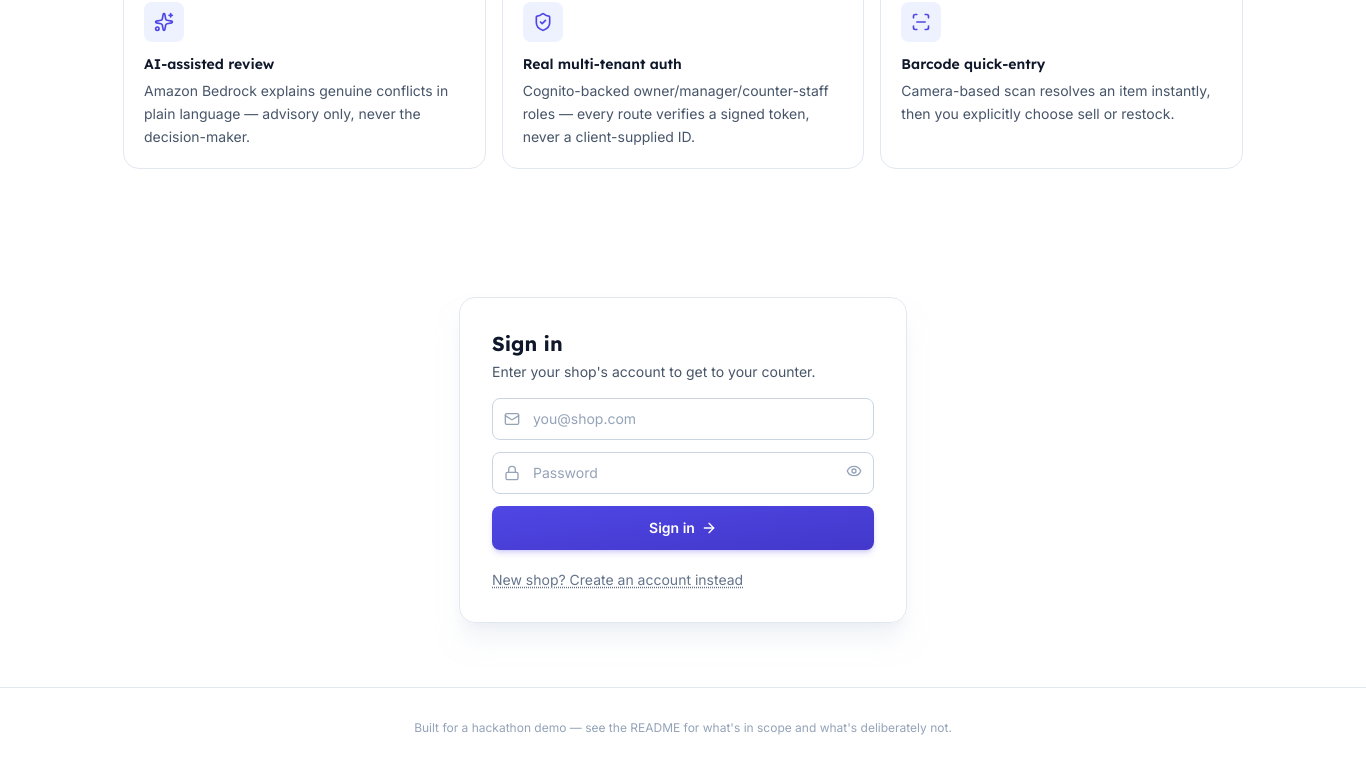
Test case: HeroPage › toggling to sign-up shows the shop-name field, and back again returns to sign-in
This screenshot has width=1366, height=768.
(page scrolled)
Click the button "New shop? Create an account instead": (618, 580) [492,570,743,590]
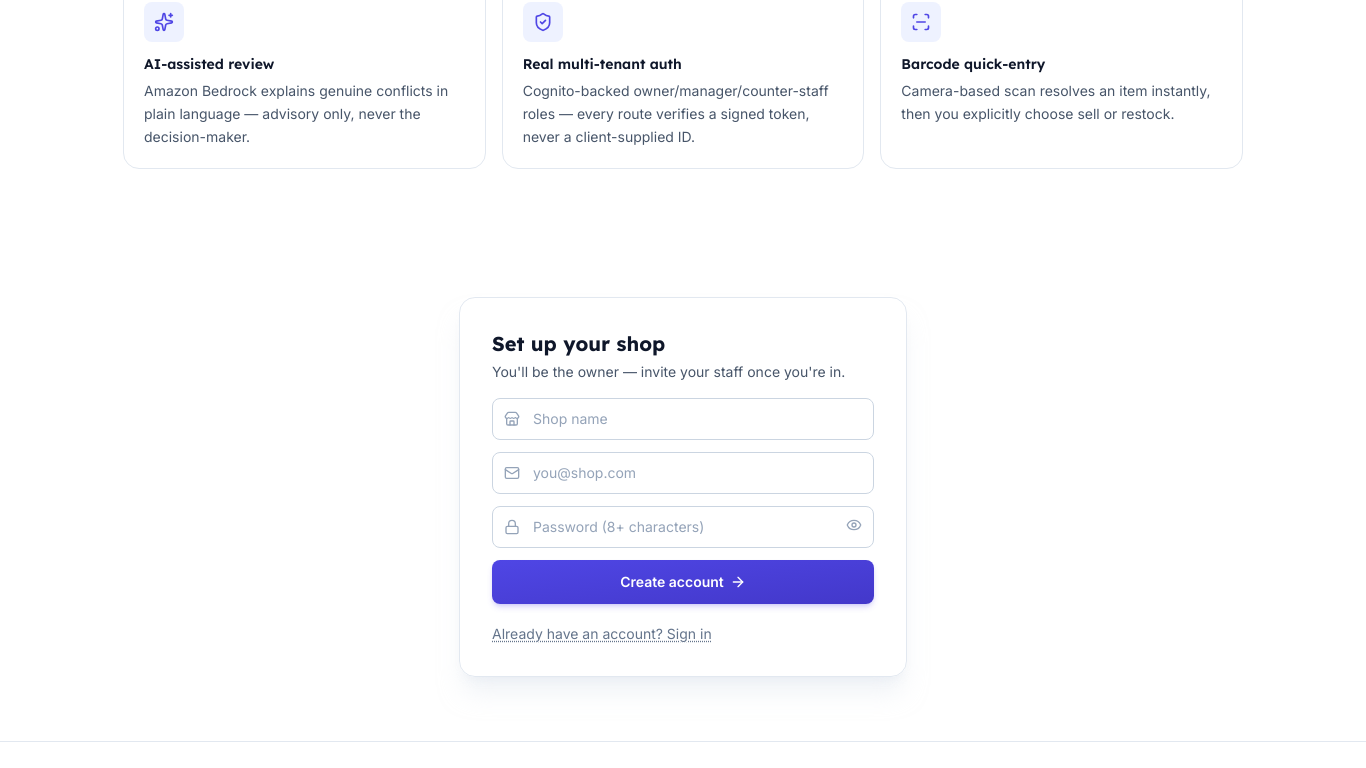
Now the heading "Set up your shop" is shown, box [492,331,665,356]
Now the field labelled "Shop name" is shown, box [492,398,874,440]
Click the button "Already have an account? Sign in": (602, 634) [492,624,712,644]
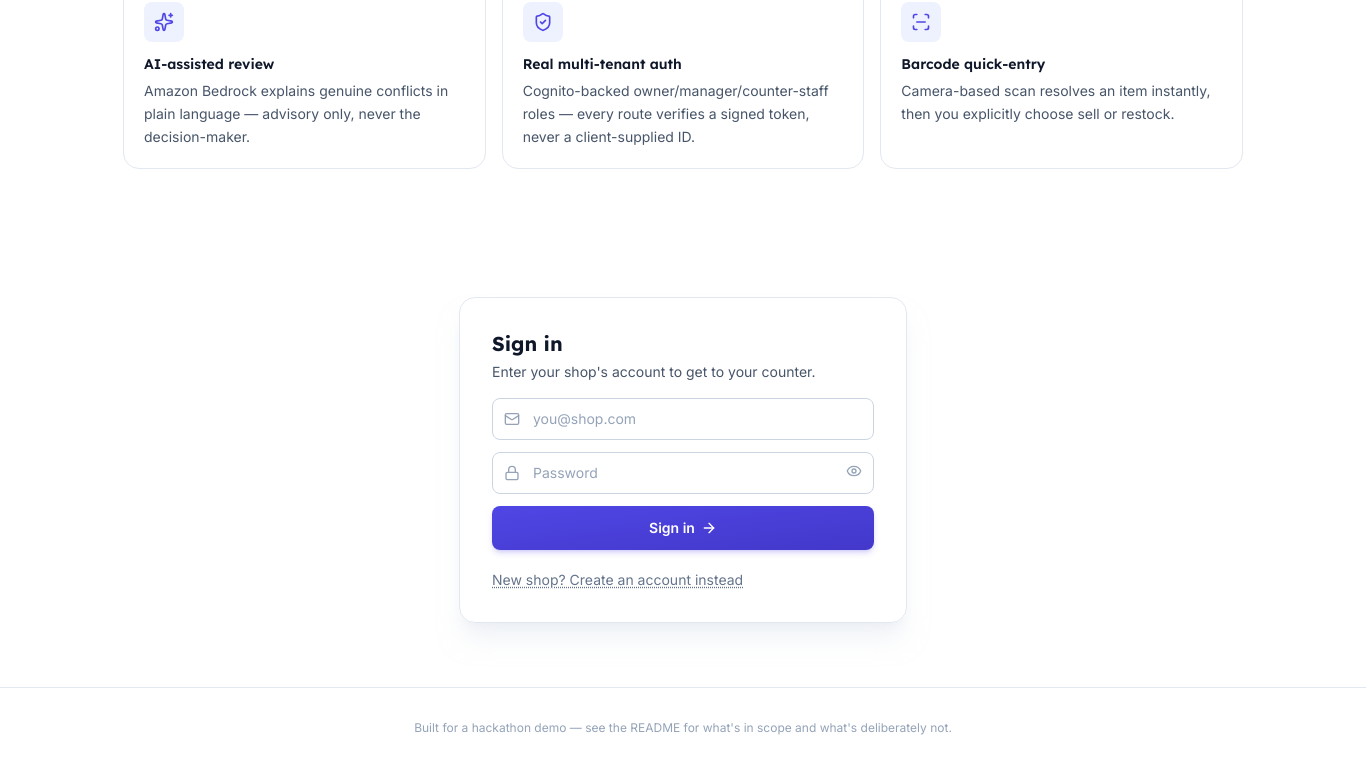
Now the heading "Sign in" is shown, box [492,331,563,356]
